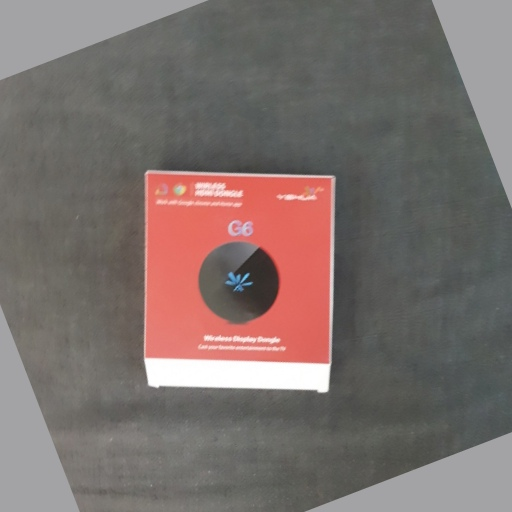Paper_0: (135, 161, 345, 407)
